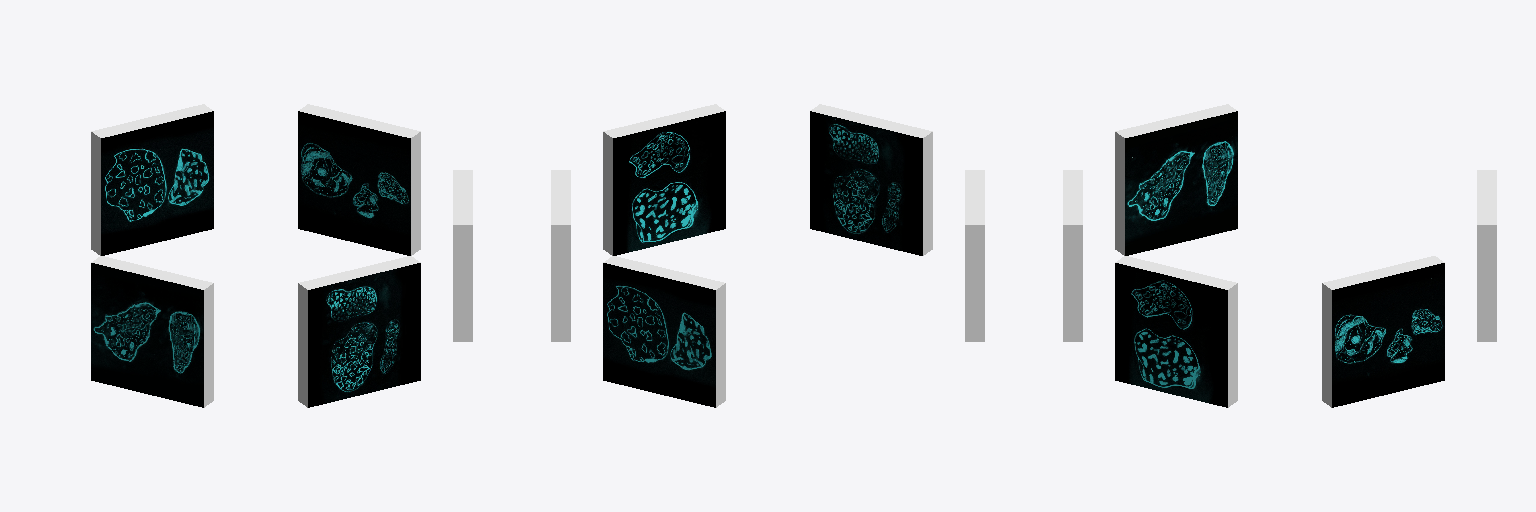
The picture shows the model from 3 angles: view 1: azimuth 30°, elevation 25°; view 2: azimuth 150°, elevation 25°; view 3: azimuth 270°, elevation 25°; orthographic projection.
Visible parts, largest first — view 1: Cube_0, Cube_1, Cube_3, Cube_4, Cube_2; view 2: Cube_0, Cube_2, Cube_3, Cube_1, Cube_4; view 3: Cube_1, Cube_2, Cube_4, Cube_0, Cube_3.
Boxes of the visible parts, <box> form: Cube_0: <box>91,104,213,255</box>; Cube_1: <box>298,104,420,255</box>; Cube_3: <box>298,256,420,407</box>; Cube_4: <box>91,256,213,407</box>; Cube_2: <box>453,170,472,341</box>; Cube_0: <box>603,256,725,407</box>; Cube_2: <box>603,104,725,255</box>; Cube_3: <box>810,104,932,255</box>; Cube_1: <box>551,170,570,341</box>; Cube_4: <box>965,170,984,341</box>; Cube_1: <box>1322,256,1444,407</box>; Cube_2: <box>1115,256,1237,407</box>; Cube_4: <box>1115,104,1237,255</box>; Cube_0: <box>1477,170,1496,341</box>; Cube_3: <box>1063,170,1082,341</box>.
Size of the model in its own units: 813 by 240 by 800.
6 materials, 5 textured.